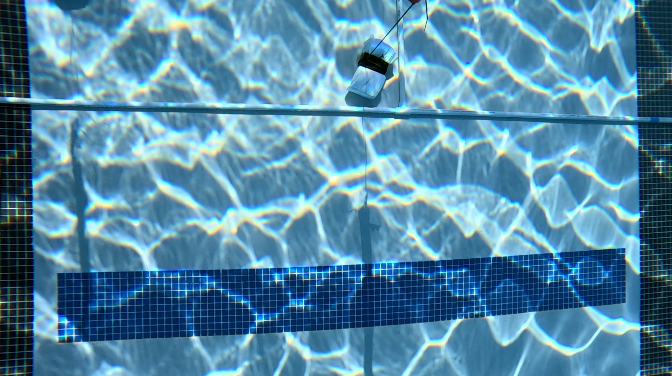sandbag: (350, 37, 395, 95)
